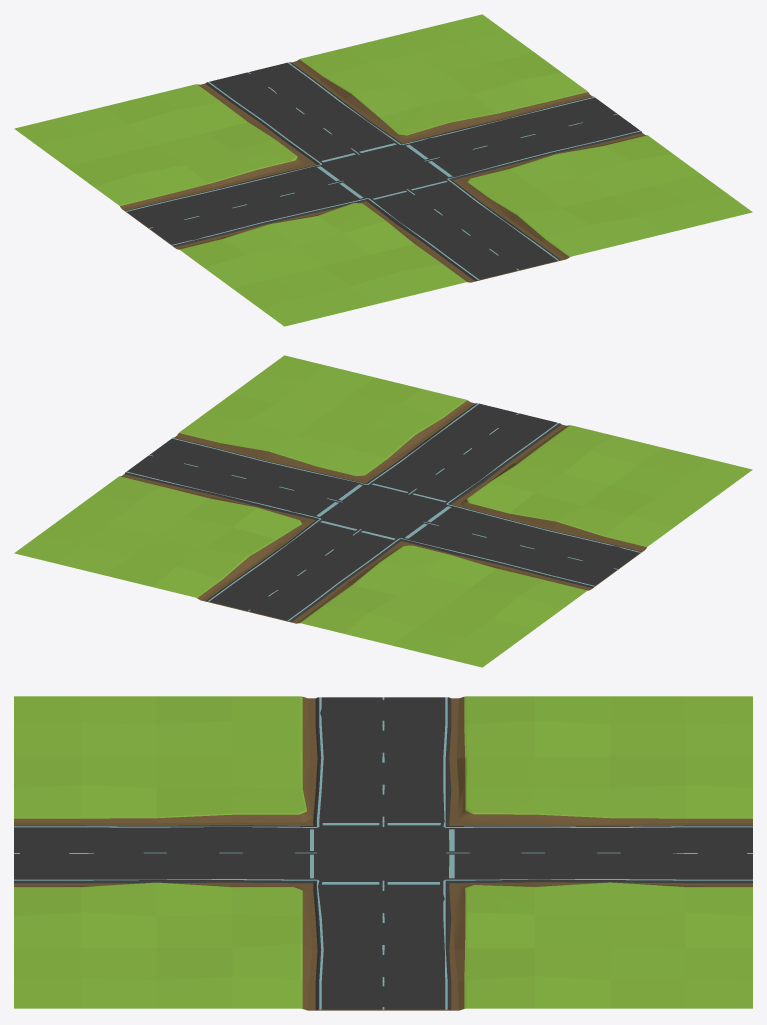
The model's file is model_road_grass_crossroad_02.fbx.
3 renders of one model, top to bottom at view 1: azimuth 30°, elevation 25°; view 2: azimuth 150°, elevation 25°; view 3: azimuth 270°, elevation 25°, orthographic. The views are drawn at different scales.
Visible parts, largest first — view 1: model_road_grass_crossroad_02; view 2: model_road_grass_crossroad_02; view 3: model_road_grass_crossroad_02.
Boxes of the visible parts, box(x1,y1,x2,y2) form: model_road_grass_crossroad_02: box(14, 14, 752, 326); model_road_grass_crossroad_02: box(14, 355, 752, 667); model_road_grass_crossroad_02: box(14, 696, 752, 1010).
Bounding box in the file's own units: 6000 × 62.08 × 6000.
1 material, 1 textured.
